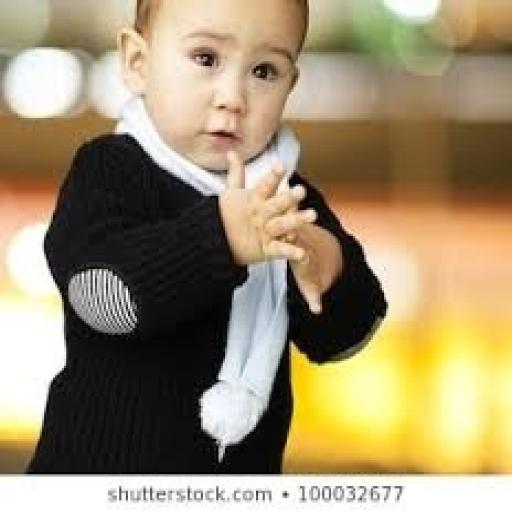clapping: (24, 0, 388, 474)
